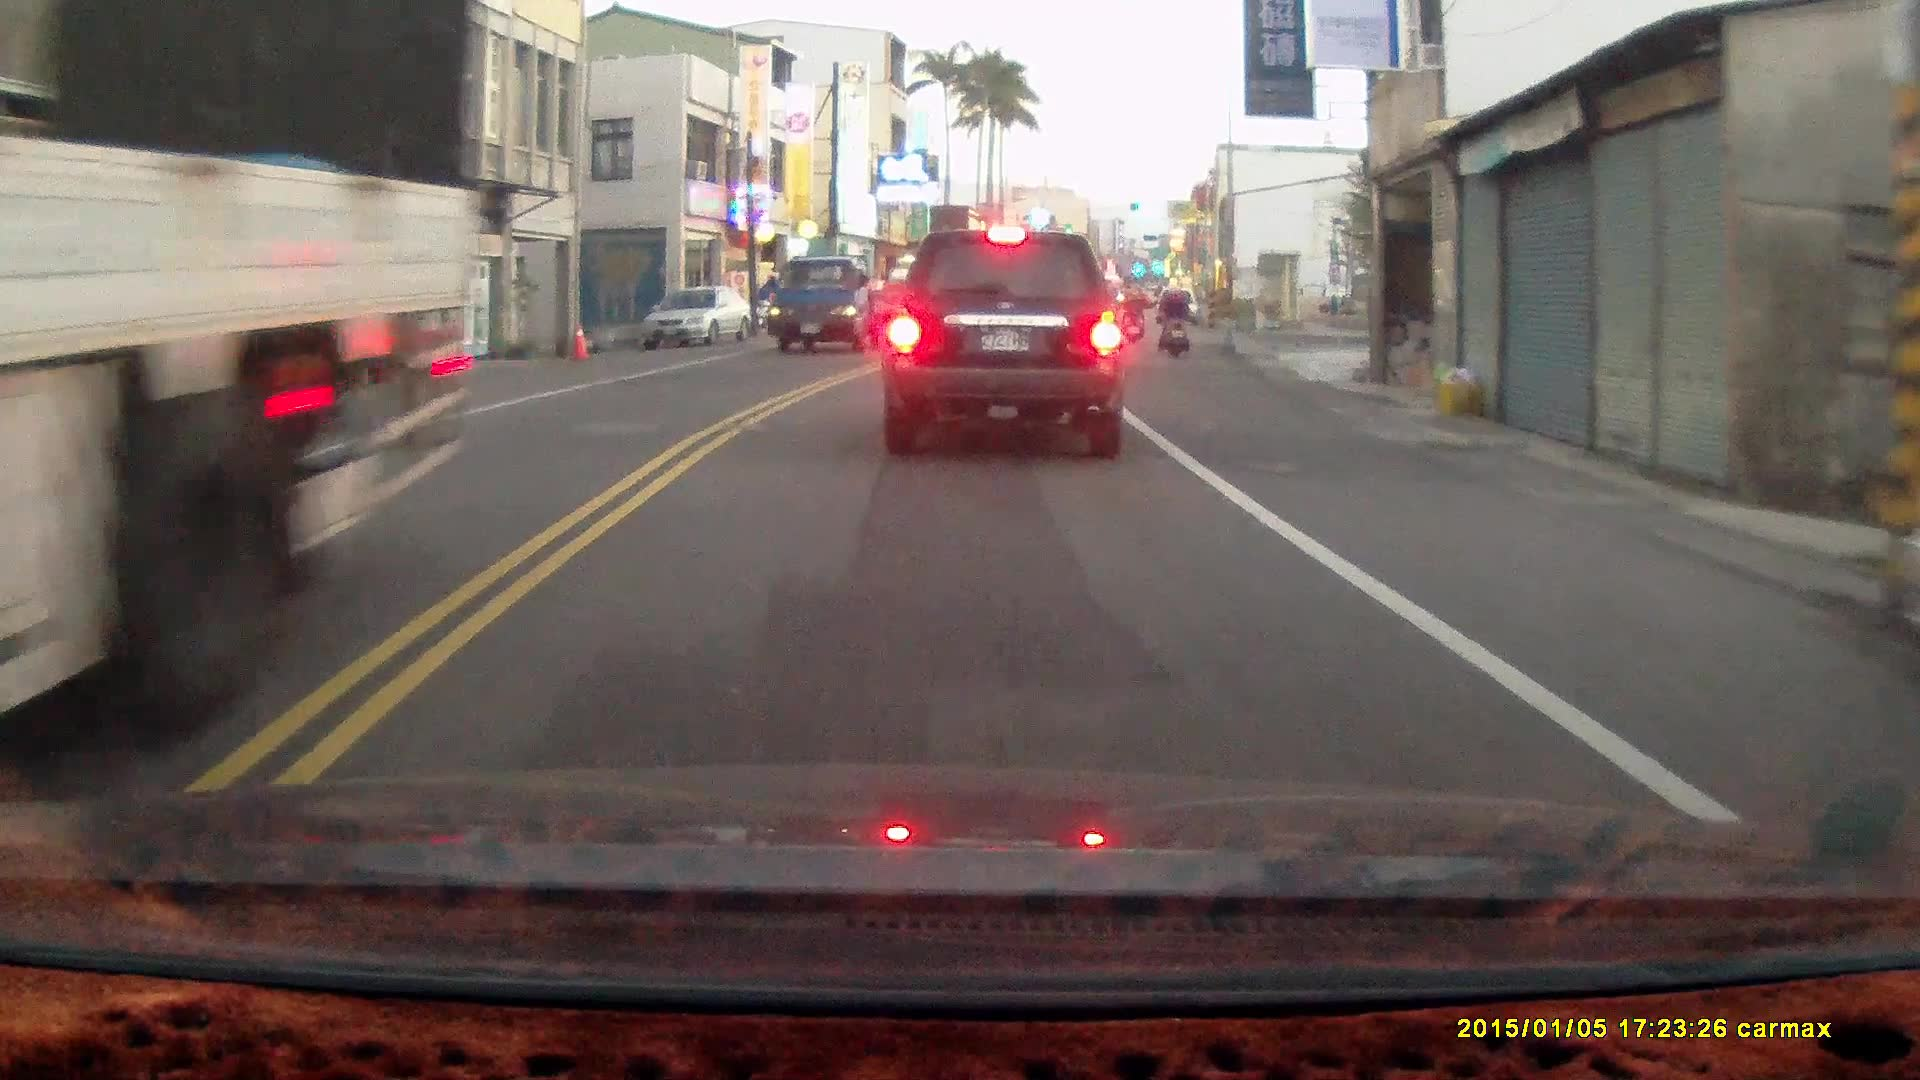rider: (1156, 279, 1187, 360), (1118, 280, 1145, 345)
vehicle: (0, 3, 509, 794), (880, 226, 1128, 459), (764, 256, 890, 359), (640, 285, 754, 350)
